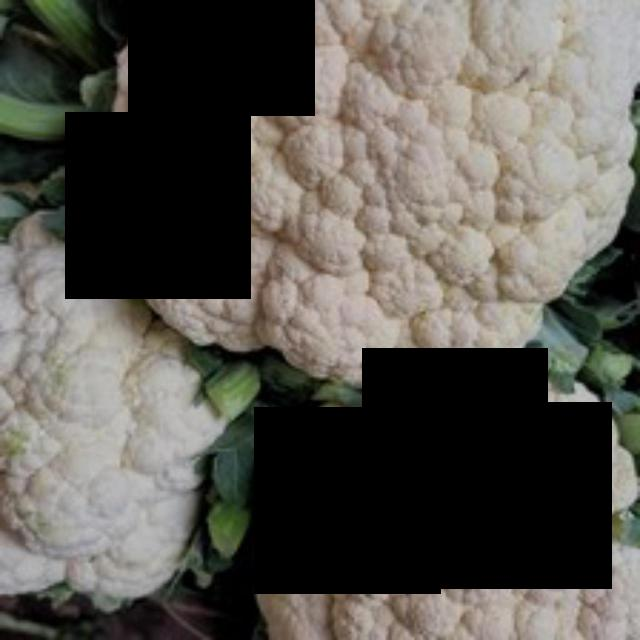cauliflower: (108, 0, 637, 397)
